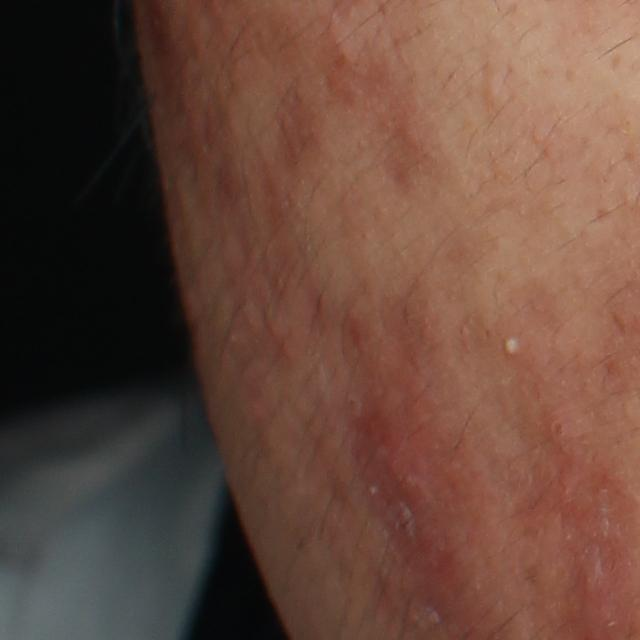pustule: (492, 325, 531, 363)
